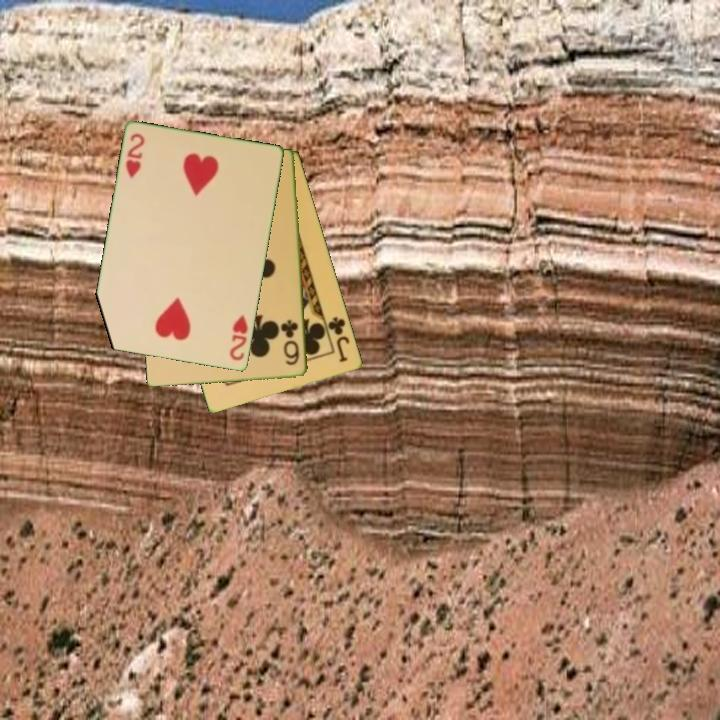2h: (122, 130, 148, 181), (226, 311, 251, 364)
6c: (279, 316, 302, 368)
Jc: (324, 313, 353, 365)
